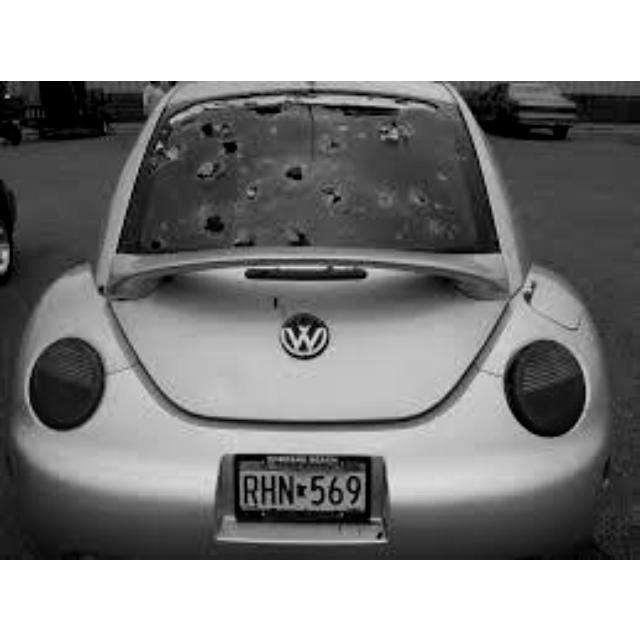Rear-windscreen-Damage: (146, 90, 472, 262)
